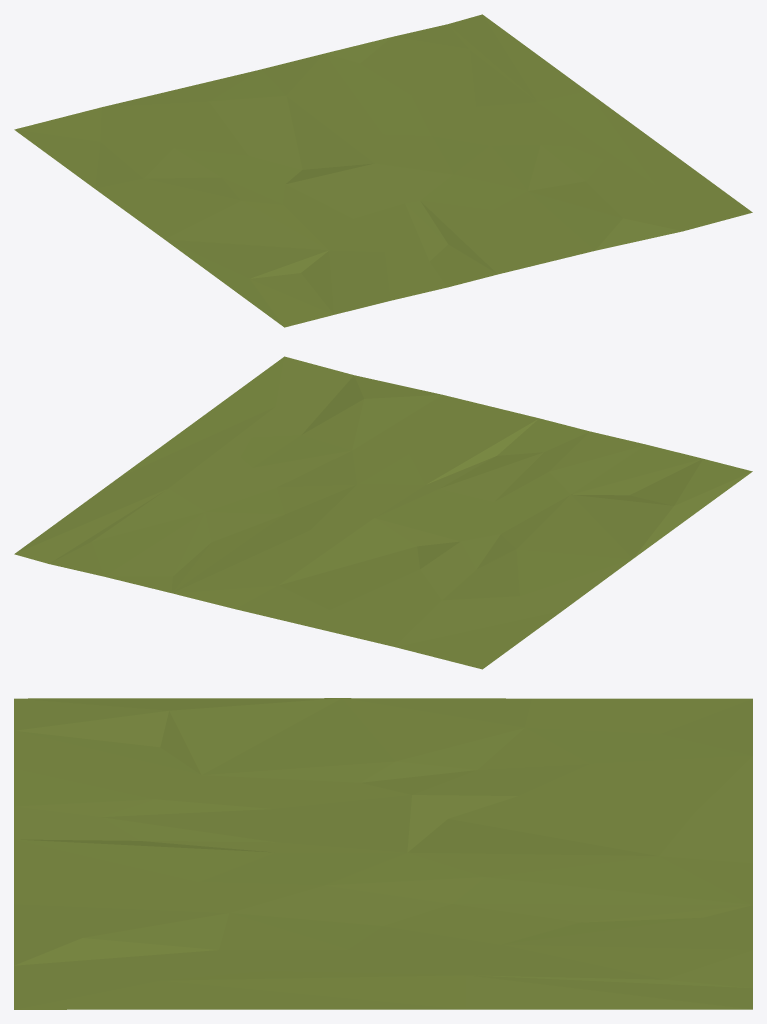
3 renders of one model, top to bottom at view 1: azimuth 30°, elevation 25°; view 2: azimuth 150°, elevation 25°; view 3: azimuth 270°, elevation 25°, orthographic. The views are drawn at different scales.
Parts seen in each view (by area): view 1: SandPlane.001; view 2: SandPlane.001; view 3: SandPlane.001.
Boxes of the visible parts, x1,y1,x2,y2 form: SandPlane.001: (14,14,752,327); SandPlane.001: (14,356,752,669); SandPlane.001: (14,698,752,1009).
Size of the model in its own units: 50.01 by 0.4044 by 50.
